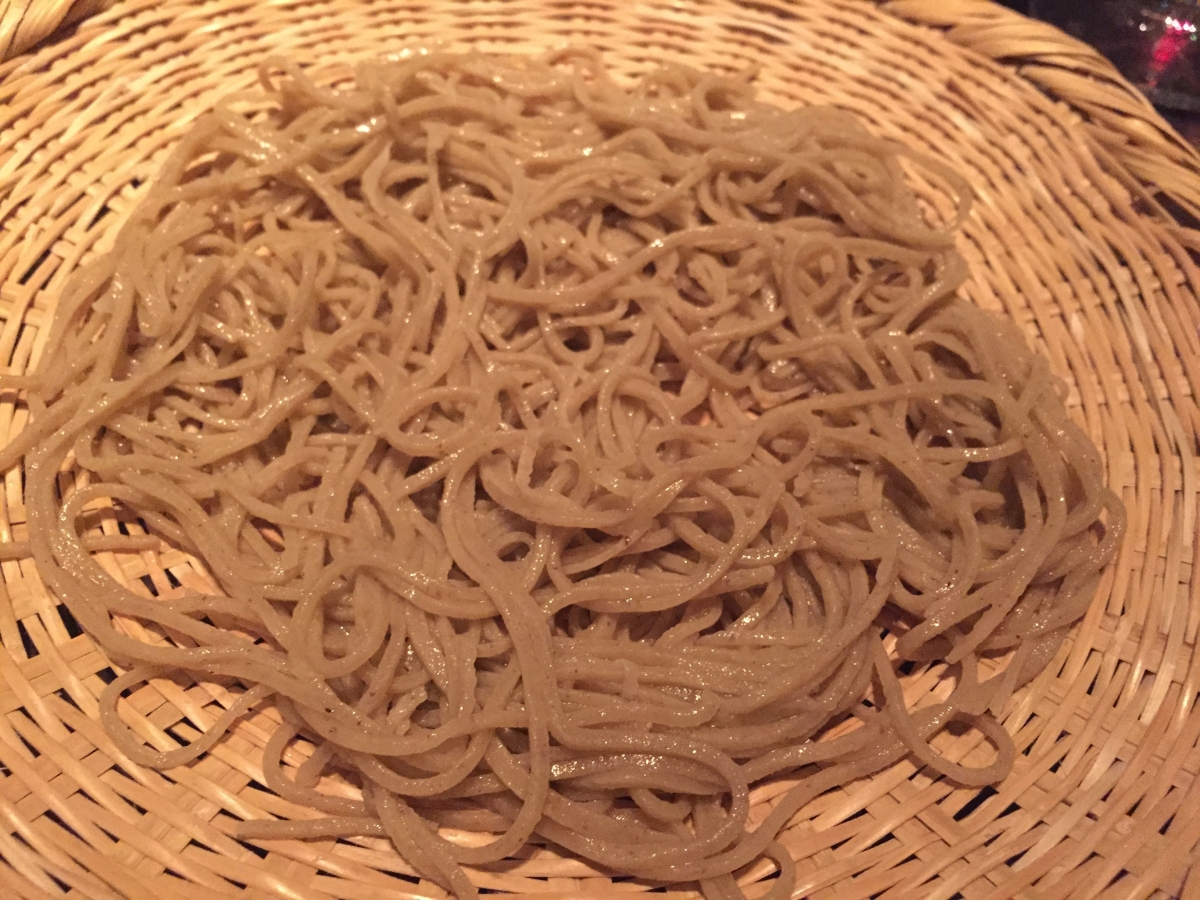Soba: (31, 57, 1125, 899)
